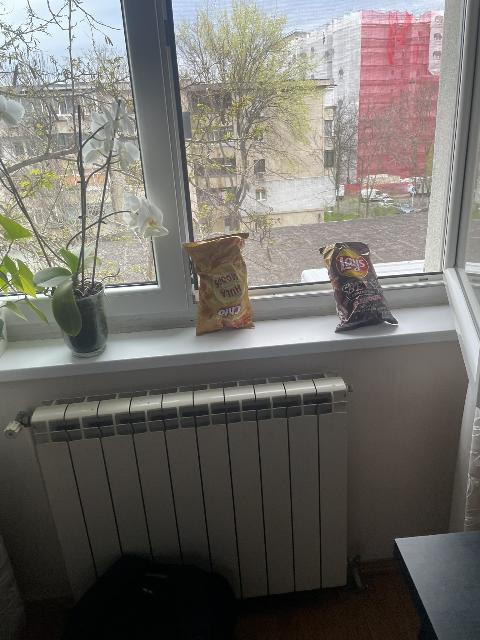Chio Hula Hoops Cheese 70g: (182, 234, 256, 335)
Lays Beef Grilled Ribs 125g: (323, 242, 398, 332)
